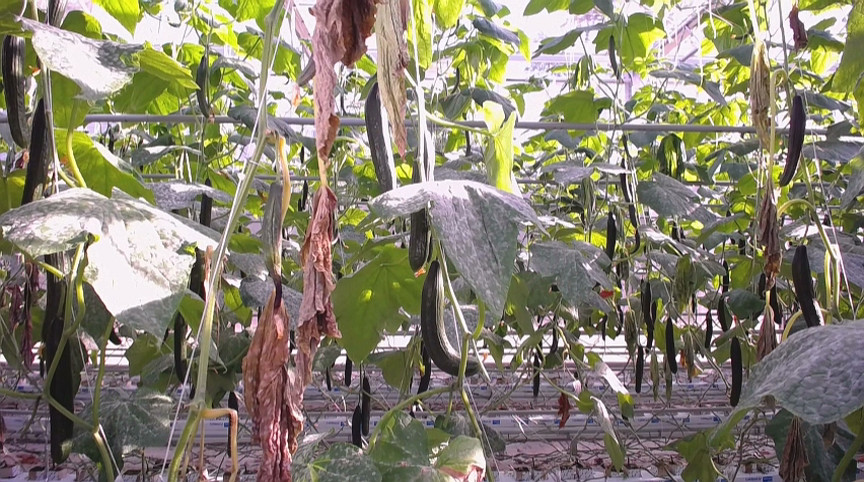cucumber: (421, 262, 482, 376), (48, 317, 73, 465), (365, 81, 397, 194), (2, 33, 30, 148), (791, 246, 826, 329), (24, 99, 51, 205), (779, 93, 807, 189), (408, 208, 427, 272), (173, 313, 189, 383), (729, 336, 743, 408), (198, 175, 214, 228), (664, 316, 676, 375), (605, 212, 619, 261), (361, 377, 372, 435), (635, 344, 646, 394), (351, 405, 362, 448)
